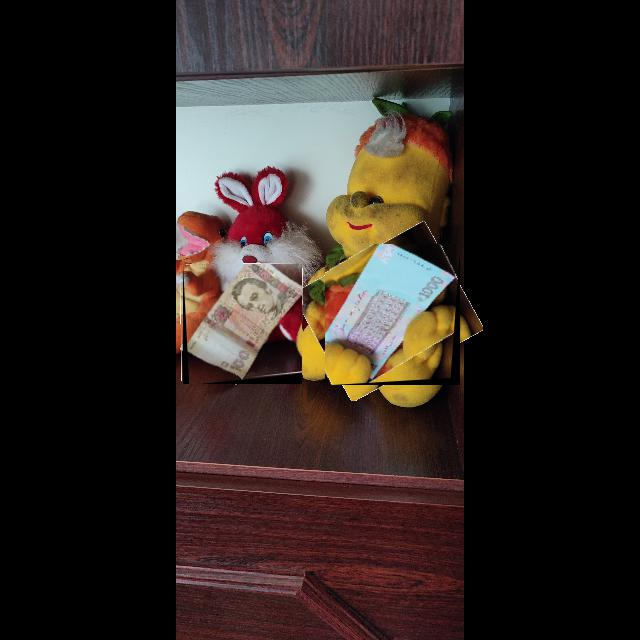1000uah: (325, 244, 459, 384)
100uah: (186, 264, 303, 381)
